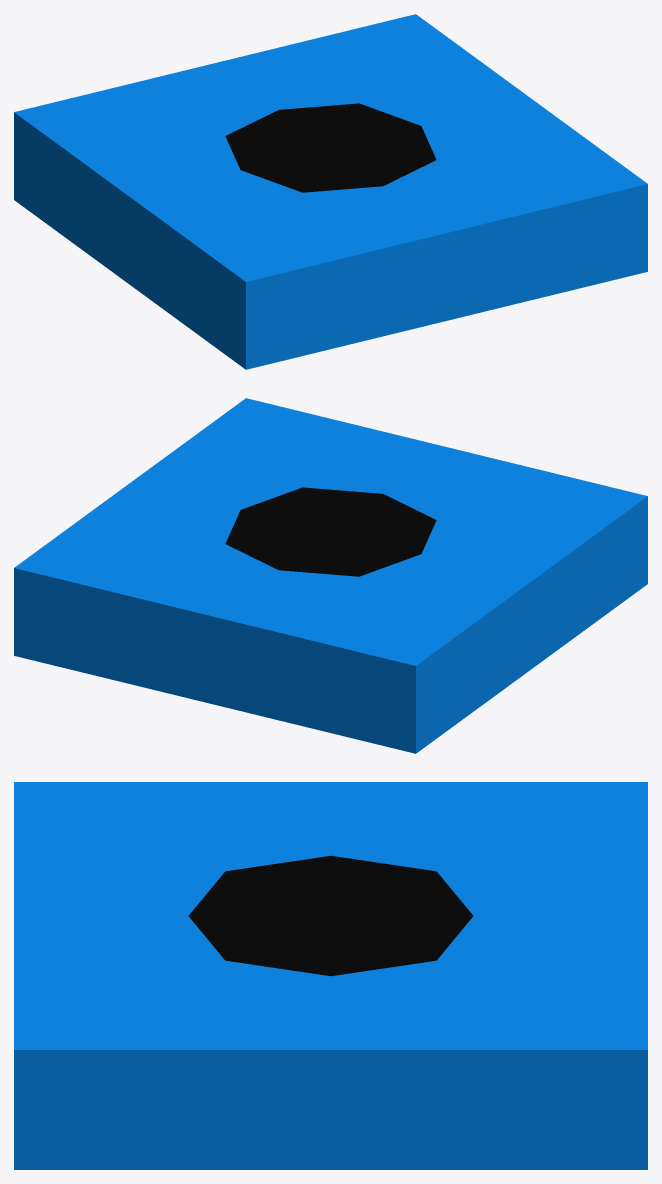
3 renders of one model, top to bottom at view 1: azimuth 30°, elevation 25°; view 2: azimuth 150°, elevation 25°; view 3: azimuth 270°, elevation 25°, orthographic. The views are drawn at different scales.
Visible parts, largest first — view 1: Box.003; view 2: Box.003; view 3: Box.003.
Part boxes in pixels (box(x1,y1,x2,y2)): Box.003: box(14, 14, 647, 369); Box.003: box(14, 398, 647, 753); Box.003: box(14, 782, 647, 1169).
Size of the model in its own units: 52.72 by 11.01 by 52.72.
